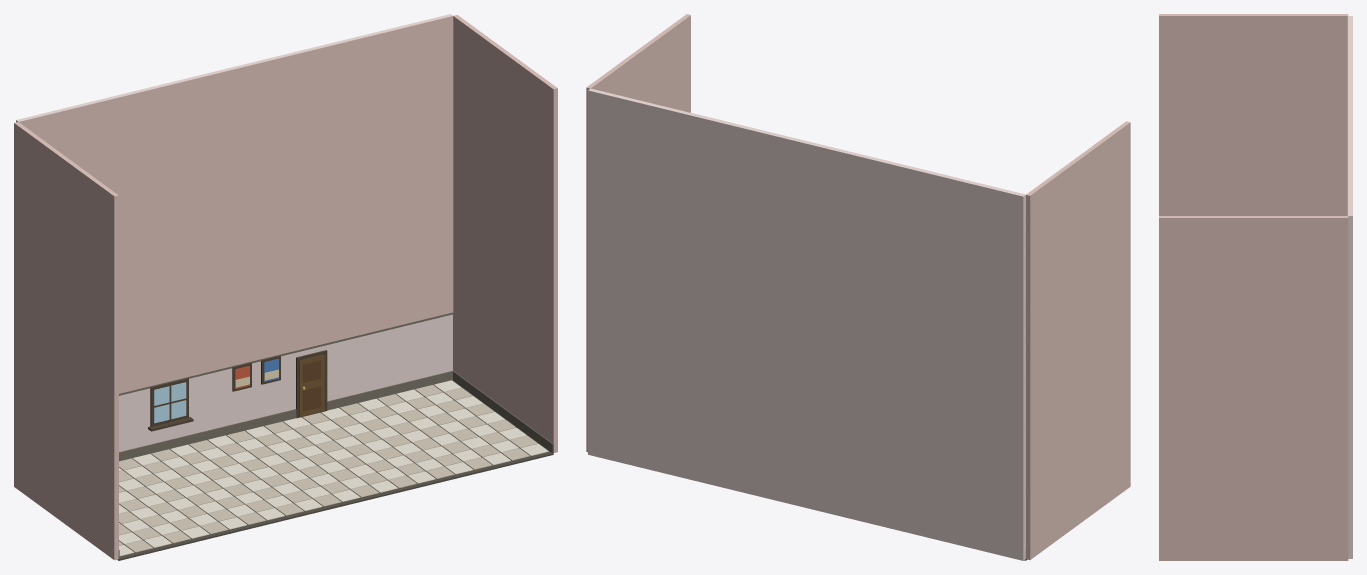
File: room_rosa_stone.glb
The picture shows the model from 3 angles, left to right: view 1: azimuth 30°, elevation 25°; view 2: azimuth 150°, elevation 25°; view 3: azimuth 270°, elevation 25°; orthographic projection. The views are drawn at different scales.
Visible parts, largest first — view 1: room; view 2: room; view 3: room.
Boxes of the visible parts, x1,y1,x2,y2 form: room: [14, 14, 557, 560]; room: [586, 14, 1130, 560]; room: [1159, 14, 1352, 560].
Size of the model in its own units: 30.6 by 24.11 by 12.3.
